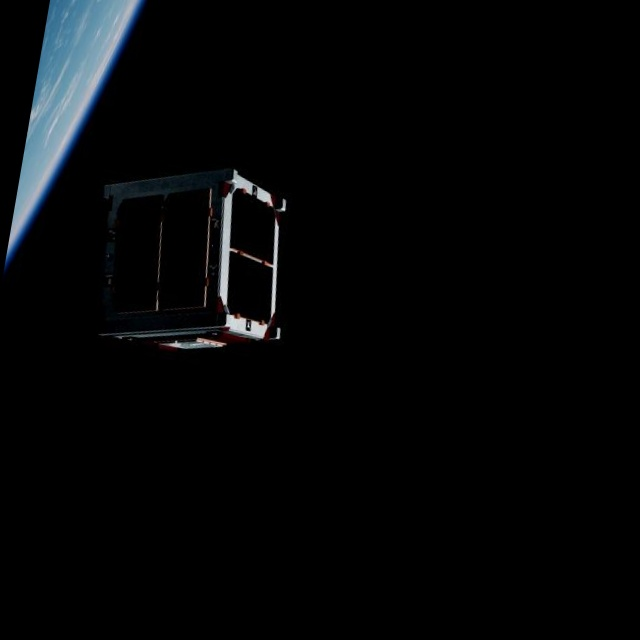medium_debris: (57, 137, 311, 385)
